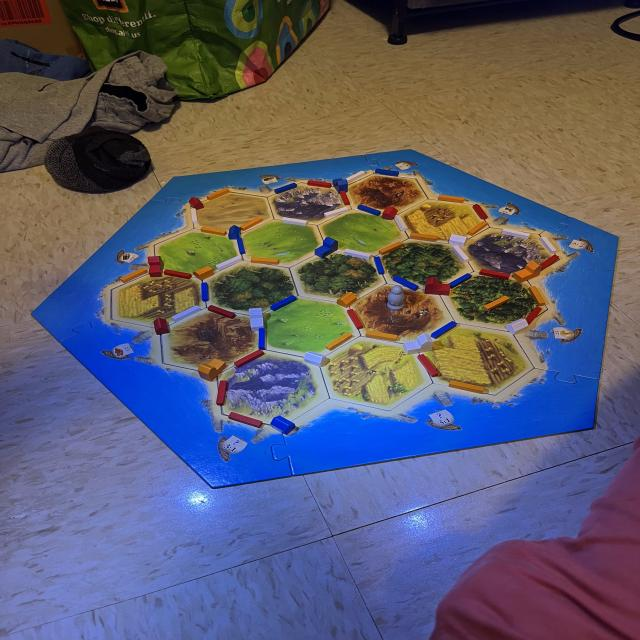blue-city: (314, 236, 340, 257), (332, 178, 351, 194)
blue-road: (431, 322, 457, 339), (271, 295, 297, 310), (392, 276, 418, 290), (449, 274, 472, 288), (372, 255, 387, 275), (357, 204, 382, 216), (376, 168, 399, 177), (258, 326, 267, 349), (273, 184, 298, 192), (236, 238, 246, 254), (201, 282, 209, 302)
blue-settlement: (270, 414, 296, 434), (228, 226, 242, 240)
orange-city: (198, 358, 227, 381), (514, 261, 542, 282)
orange-road: (448, 380, 484, 392), (326, 332, 352, 348), (121, 268, 147, 283), (484, 296, 511, 309), (528, 286, 546, 305), (365, 331, 398, 341), (409, 231, 438, 242), (466, 221, 487, 236), (378, 242, 404, 254), (206, 188, 230, 200), (240, 218, 262, 230), (199, 227, 227, 236), (249, 256, 279, 264), (438, 195, 464, 203)
orange-settlement: (336, 291, 357, 307), (194, 265, 214, 280)
red-city: (424, 276, 453, 296), (146, 255, 166, 279)
red-road: (416, 353, 439, 378), (227, 412, 264, 427), (234, 350, 265, 365), (207, 304, 236, 318), (164, 268, 192, 280), (347, 308, 363, 329), (216, 380, 228, 406), (480, 268, 510, 278), (526, 306, 541, 325), (539, 256, 559, 269), (307, 179, 332, 188), (472, 205, 487, 218), (340, 191, 350, 205)
red-settlement: (152, 316, 172, 337), (187, 195, 206, 210), (382, 205, 397, 220)
white-city: (403, 334, 433, 354), (248, 306, 266, 330)
white-road: (172, 304, 200, 322), (216, 256, 242, 269), (451, 245, 469, 263), (500, 228, 530, 238), (281, 216, 308, 227), (343, 248, 371, 258), (345, 169, 366, 182), (539, 237, 556, 253), (323, 208, 349, 216), (394, 217, 406, 232), (188, 208, 198, 223)
white-settlement: (304, 350, 329, 368), (505, 319, 529, 335), (447, 234, 468, 246)
